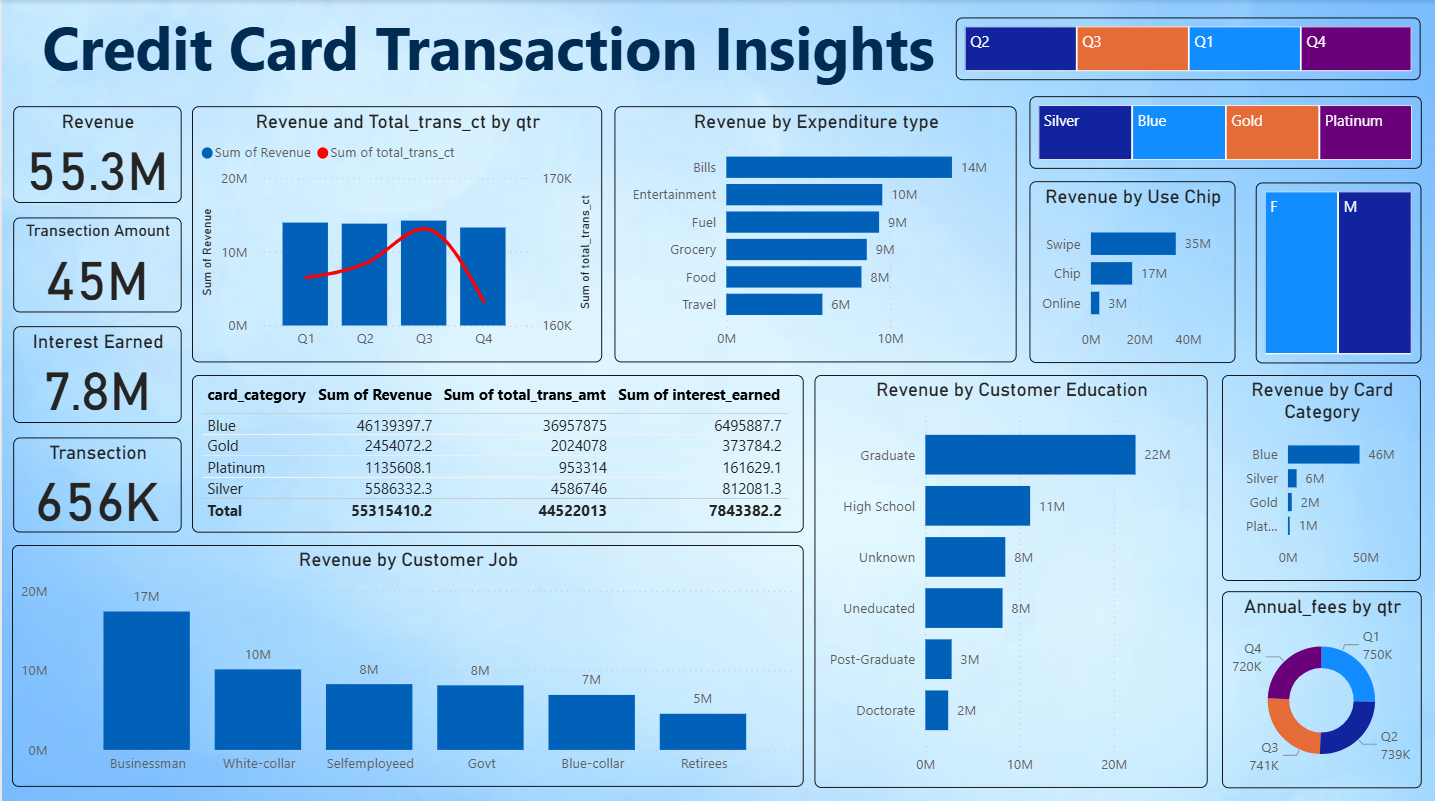

The page's visual inventory and layout, read from the dashboard file:
{"tool":"powerbi","page":{"name":"Page 1","canvas":[1280,720],"ordinal":0},"visuals":[{"type":"textbox","box":[9.3,0,851.2,102.3],"z":0},{"type":"lineStackedColumnComboChart","title":"Revenue and Total_trans_ct by qtr","fields":{"Category":["public cc_detail.qtr"],"Y":["Sum(public cc_detail.Revenue)"],"Y2":["Sum(public cc_detail.total_trans_ct)"]},"box":[169.8,95.3,366.3,229.1],"z":1000},{"type":"barChart","title":"Revenue by Expenditure type","fields":{"Category":["public cc_detail.exp_type"],"Y":["Sum(public cc_detail.Revenue)"]},"box":[547.7,95.3,359.3,229.1],"z":2000},{"type":"columnChart","title":"Revenue by Customer Job","fields":{"Category":["customer.Customer_Job"],"Y":["Sum(public cc_detail.Revenue)"]},"box":[9.3,487.2,707,216.3],"z":3000},{"type":"barChart","title":"Revenue by Customer Education","fields":{"Category":["customer.Education_Level"],"Y":["Sum(public cc_detail.Revenue)"]},"box":[725.6,334.9,351.2,368.6],"z":4000},{"type":"barChart","title":"Revenue by Card Category","fields":{"Y":["Sum(public cc_detail.Revenue)"],"Category":["public cc_detail.card_category"]},"box":[1089.8,335,177.5,184.2],"z":5000},{"type":"barChart","title":"Revenue by Use Chip","fields":{"Y":["Sum(public cc_detail.Revenue)"],"Category":["public cc_detail.use_chip"]},"box":[917.4,161.6,183.7,162.8],"z":6000},{"type":"tableEx","fields":{"Values":["public cc_detail.card_category","Sum(public cc_detail.Revenue)","Sum(public cc_detail.total_trans_amt)","Sum(public cc_detail.interest_earned)"]},"box":[169.8,334.9,546.5,140.7],"z":7000},{"type":"card","title":"Revenue","fields":{"Values":["Sum(public cc_detail.Revenue)"]},"box":[9.9,95.3,150,86],"z":8000},{"type":"card","title":"Interest Earned","fields":{"Values":["Sum(public cc_detail.interest_earned)"]},"box":[9.9,291.9,150,86],"z":9000},{"type":"card","title":"Transection Amount","fields":{"Values":["Sum(public cc_detail.total_trans_amt)"]},"box":[9.9,194.2,150,84.9],"z":10000},{"type":"card","title":"Transection","fields":{"Values":["Sum(public cc_detail.total_trans_ct)"]},"box":[9.9,390.7,150,84.9],"z":11000},{"type":"treemap","fields":{"Group":["public cc_detail.qtr"],"Values":["CountNonNull(customer.Client_Num)"]},"box":[852.3,15.1,415.1,55.8],"z":12000},{"type":"treemap","fields":{"Values":["Avg(customer.Client_Num)"],"Group":["customer.Gender"]},"box":[1119.8,162.8,147.7,161.6],"z":13000},{"type":"treemap","fields":{"Group":["public cc_detail.card_category"],"Values":["Avg(customer.Client_Num)"]},"box":[917.4,86,350,65.1],"z":14000},{"type":"donutChart","title":"Annual_fees by qtr","fields":{"Y":["Sum(public cc_detail.annual_fees)"],"Category":["public cc_detail.qtr"]},"box":[1090,528,178,176],"z":14001}]}

Visuals, with their boxes in screenshot pixels (x1, y1, x2, y2), scaled from the page's 1280x720 canvas onto the 1435x801 screenshot:
textbox: left=10, top=0, right=965, bottom=114
"Revenue and Total_trans_ct by qtr" lineStackedColumnComboChart: left=190, top=106, right=601, bottom=361
"Revenue by Expenditure type" barChart: left=614, top=106, right=1017, bottom=361
"Revenue by Customer Job" columnChart: left=10, top=542, right=803, bottom=783
"Revenue by Customer Education" barChart: left=813, top=373, right=1207, bottom=783
"Revenue by Card Category" barChart: left=1222, top=373, right=1421, bottom=578
"Revenue by Use Chip" barChart: left=1028, top=180, right=1234, bottom=361
tableEx - public cc_detail.card_category x Sum(public cc_detail.Revenue): left=190, top=373, right=803, bottom=529
"Revenue" card: left=11, top=106, right=179, bottom=202
"Interest Earned" card: left=11, top=325, right=179, bottom=420
"Transection Amount" card: left=11, top=216, right=179, bottom=310
"Transection" card: left=11, top=435, right=179, bottom=529
treemap - public cc_detail.qtr x CountNonNull(customer.Client_Num): left=956, top=17, right=1421, bottom=79
treemap - Avg(customer.Client_Num) x customer.Gender: left=1255, top=181, right=1421, bottom=361
treemap - public cc_detail.card_category x Avg(customer.Client_Num): left=1028, top=96, right=1421, bottom=168
"Annual_fees by qtr" donutChart: left=1222, top=587, right=1422, bottom=783
